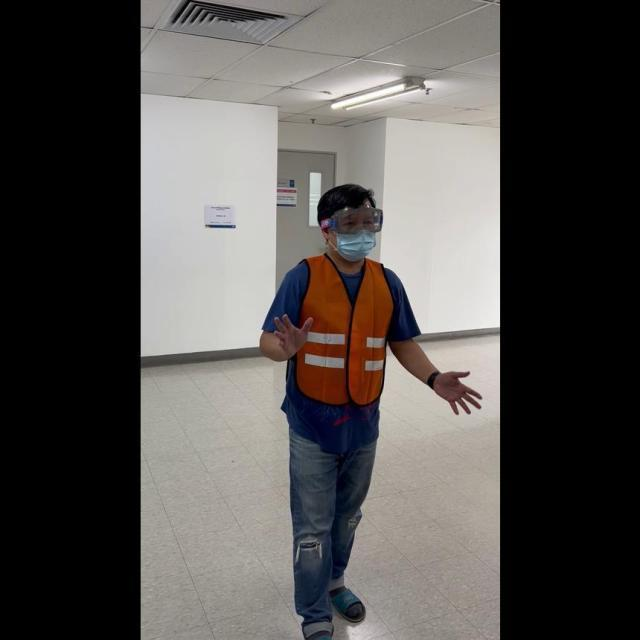bare_hand: (429, 367, 481, 417), (266, 307, 313, 357)
